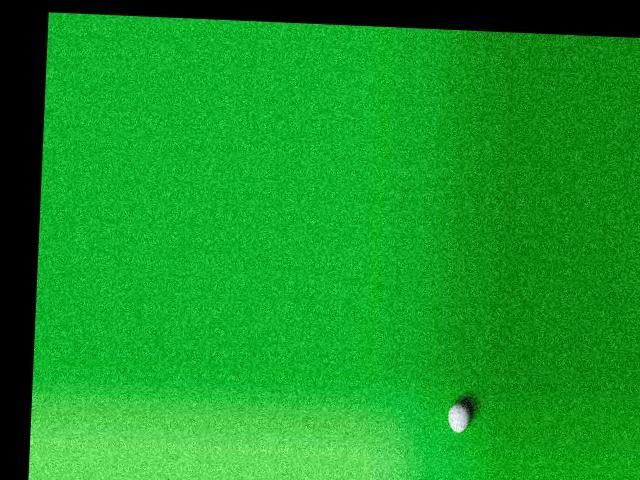egg: (447, 401, 470, 432)
